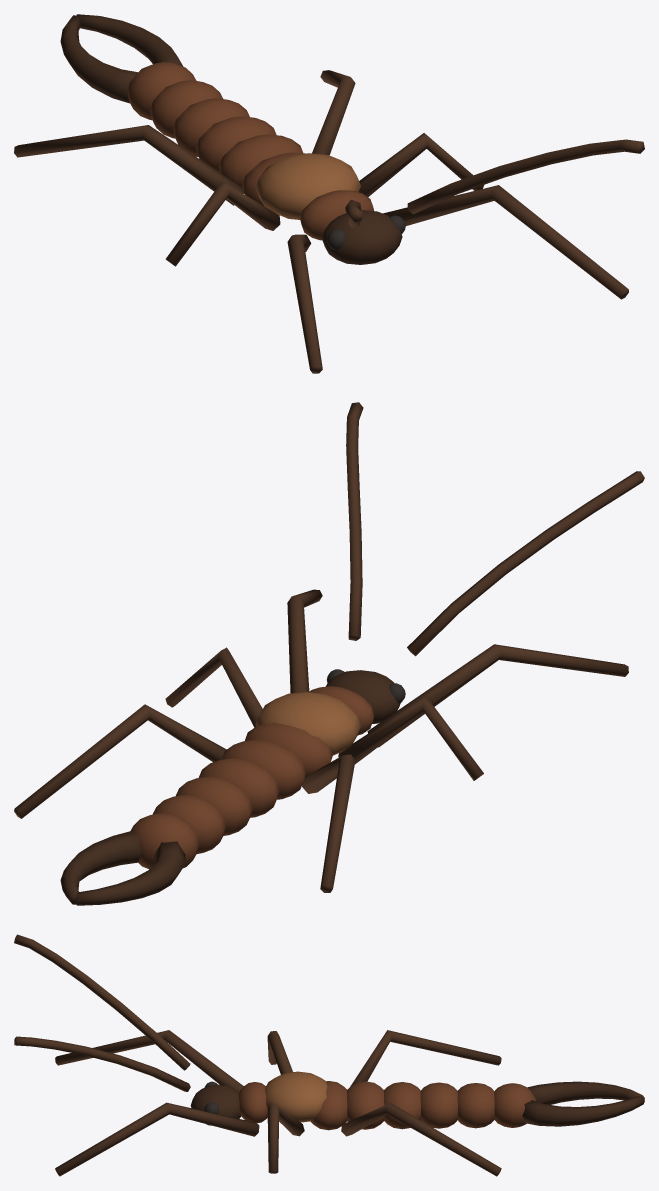
The model's file is bug-earwig.glb.
The picture shows the model from 3 angles, top to bottom: view 1: azimuth 30°, elevation 25°; view 2: azimuth 150°, elevation 25°; view 3: azimuth 270°, elevation 25°; orthographic projection. The views are drawn at different scales.
Visible parts, largest first — view 1: bug; view 2: bug; view 3: bug.
Part boxes in pixels (bbox=[...]): bug: bbox=[14, 14, 644, 373]; bug: bbox=[14, 402, 644, 905]; bug: bbox=[14, 934, 644, 1176].
Bounding box in the file's own units: 0.1156 × 0.065 × 0.2674.
